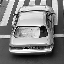mobil: (8, 4, 54, 56)
